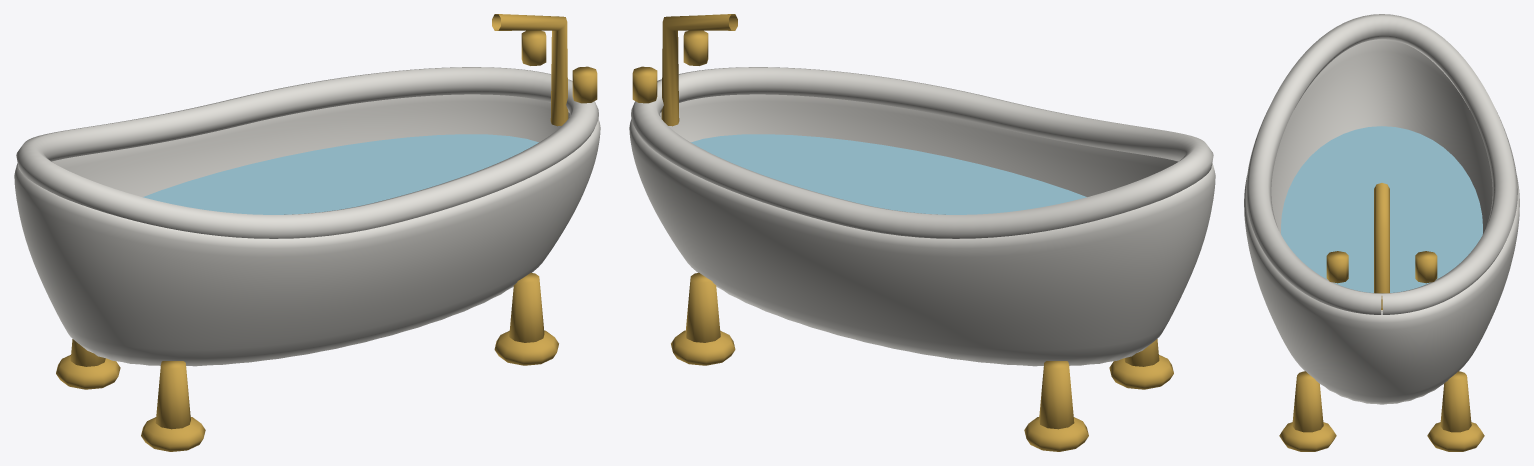
The model's file is bathtub.glb.
3 views of the same model, side by side, from view 1: azimuth 30°, elevation 25°; view 2: azimuth 150°, elevation 25°; view 3: azimuth 270°, elevation 25° (orthographic). The views are drawn at different scales.
Parts seen in each view (by area): view 1: tub, rim, water, tap, leg, leg.002, claw.002, claw, claw.001, handle, handle.001; view 2: tub, rim, water, tap, leg.001, leg.003, claw.003, claw.001, claw, handle.001, handle; view 3: tub, water, rim, tap, leg.002, leg.003, claw.002, claw.003, handle, handle.001.
Boxes of the visible parts, x1,y1,x2,y2 form: tub: (14,94,600,366); rim: (16,67,598,238); water: (143,134,538,214); tap: (492,14,568,126); leg: (155,361,190,429); leg.002: (509,272,544,342); claw.002: (494,330,558,365); claw: (141,417,205,451); claw.001: (56,355,120,389); handle: (572,66,597,103); handle.001: (521,30,546,65); tub: (629,94,1215,366); rim: (631,67,1213,238); water: (691,134,1086,214); tap: (661,14,737,126); leg.001: (1039,361,1074,429); leg.003: (685,272,720,342); claw.003: (671,330,735,365); claw.001: (1024,417,1088,451); claw: (1109,355,1173,389); handle.001: (632,66,657,103); handle: (683,30,708,65); tub: (1244,39,1519,404); water: (1281,126,1482,292); rim: (1246,14,1517,314); tap: (1374,183,1389,310); leg.002: (1292,371,1323,432); leg.003: (1440,371,1471,432); claw.002: (1279,422,1336,451); claw.003: (1427,422,1484,451); handle: (1326,251,1348,283); handle.001: (1415,251,1437,283).
Bounding box in the file's own units: 1.79 × 0.9463 × 0.8728.
